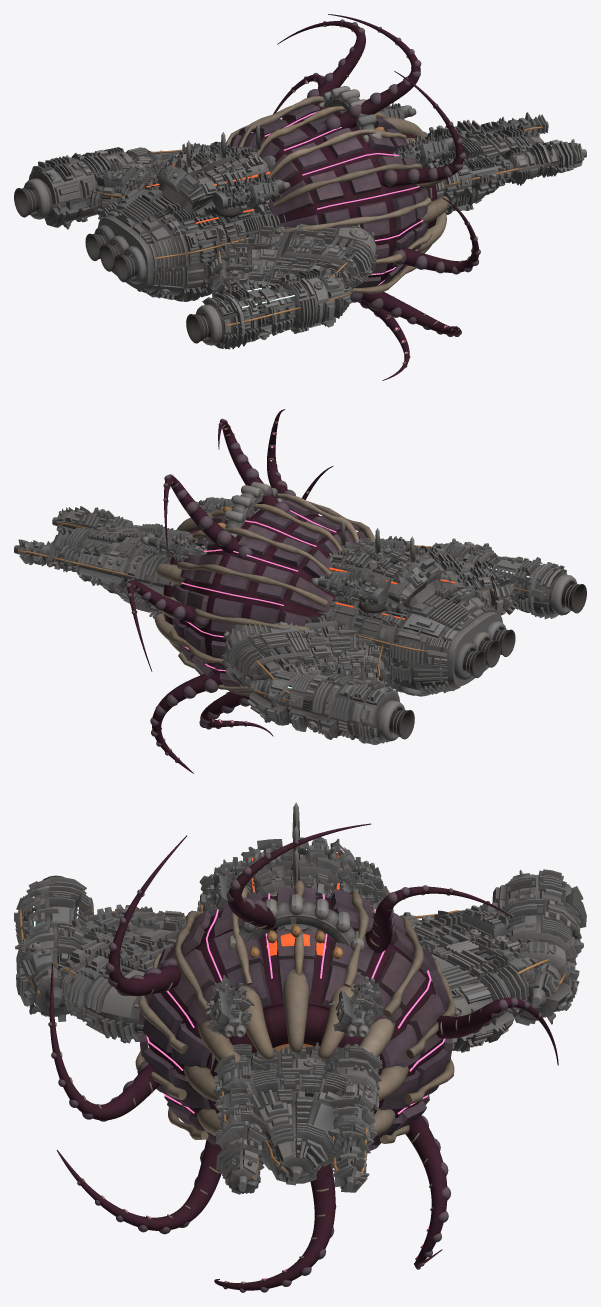
Rendered from bosses.glb.
The picture shows the model from 3 angles, top to bottom: view 1: azimuth 30°, elevation 25°; view 2: azimuth 150°, elevation 25°; view 3: azimuth 270°, elevation 25°; orthographic projection. The views are drawn at different scales.
Parts seen in each view (by area): view 1: dreadnought_hull, leviathan_carapace, leviathan, dreadnought_turret_-1_0, leviathan_crown, dreadnought_turret_-1_2, dreadnought_reactor; view 2: dreadnought_hull, leviathan_carapace, leviathan, dreadnought_turret_1_0, leviathan_crown, dreadnought_turret_1_2, dreadnought_reactor; view 3: dreadnought_hull, leviathan_carapace, leviathan, leviathan_crown, dreadnought_reactor, dreadnought_turret_1_2, dreadnought_turret_-1_2, dreadnought_turret_1_0, dreadnought_turret_-1_0.
Part boxes in pixels (x1,y1,x2,y2): dreadnought_hull: [14, 112, 586, 349]; leviathan_carapace: [225, 96, 432, 302]; leviathan: [273, 14, 480, 380]; dreadnought_turret_-1_0: [212, 174, 290, 217]; leviathan_crown: [382, 116, 449, 253]; dreadnought_turret_-1_2: [393, 132, 455, 168]; dreadnought_reactor: [318, 86, 384, 143]; dreadnought_hull: [14, 506, 586, 744]; leviathan_carapace: [169, 493, 375, 696]; leviathan: [125, 409, 333, 773]; dreadnought_turret_1_0: [310, 571, 388, 613]; leviathan_crown: [154, 509, 222, 652]; dreadnought_turret_1_2: [140, 529, 208, 561]; dreadnought_reactor: [217, 482, 282, 537]; dreadnought_hull: [14, 802, 586, 1194]; leviathan_carapace: [135, 880, 455, 1168]; leviathan: [48, 823, 558, 1292]; leviathan_crown: [183, 968, 408, 1163]; dreadnought_reactor: [228, 894, 364, 959]; dreadnought_turret_1_2: [328, 972, 383, 1038]; dreadnought_turret_-1_2: [205, 975, 254, 1038]; dreadnought_turret_1_0: [339, 857, 383, 908]; dreadnought_turret_-1_0: [205, 857, 251, 915].
Bounding box in the file's own units: 13.26 × 9.07 × 10.26.
Materials: 15 (4 with a texture image).
